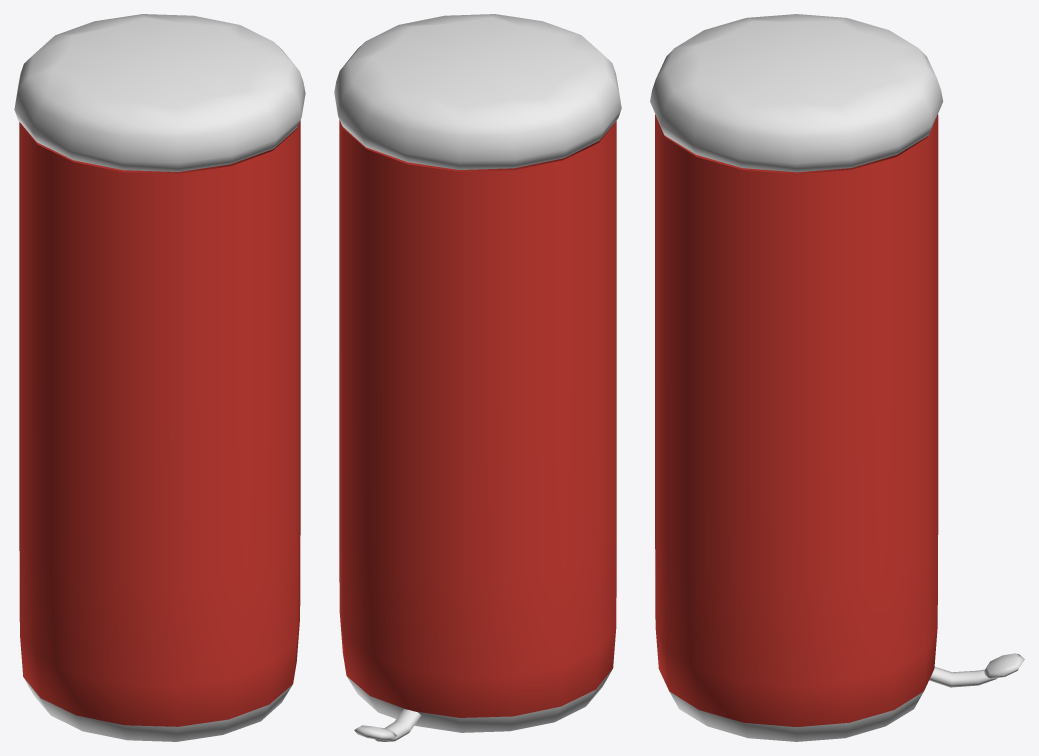
The model's file is Trash can.fbx.
The picture shows the model from 3 angles, left to right: view 1: azimuth 30°, elevation 25°; view 2: azimuth 150°, elevation 25°; view 3: azimuth 270°, elevation 25°; orthographic projection.
Parts seen in each view (by area): view 1: Trash can; view 2: Trash can; view 3: Trash can.
Part boxes in pixels (bbox=[...]): Trash can: bbox=[14, 14, 305, 741]; Trash can: bbox=[334, 14, 621, 741]; Trash can: bbox=[650, 14, 1024, 741].
Size of the model in its own units: 69.02 by 166 by 88.25.
